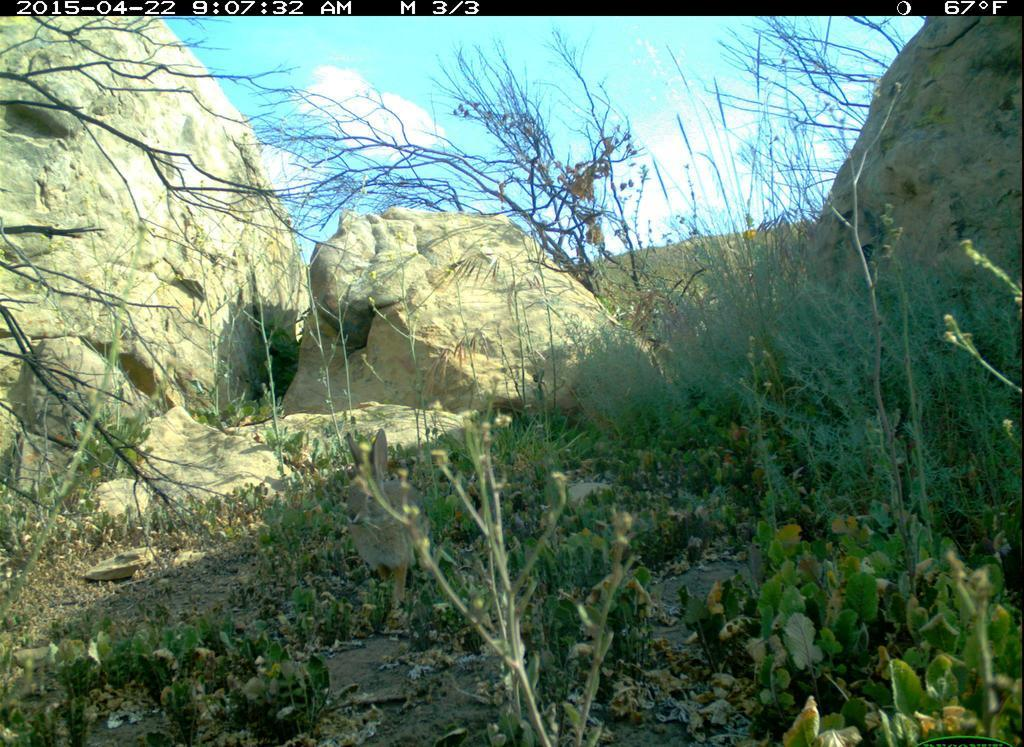rabbit: (337, 414, 470, 628)
